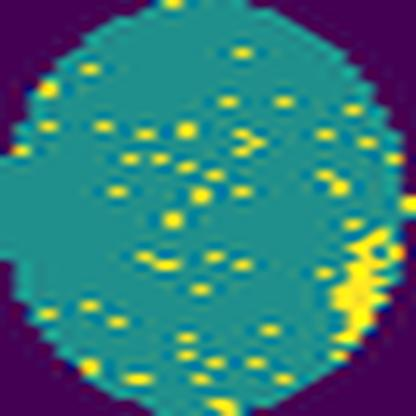Loc: (330, 223, 390, 348)
